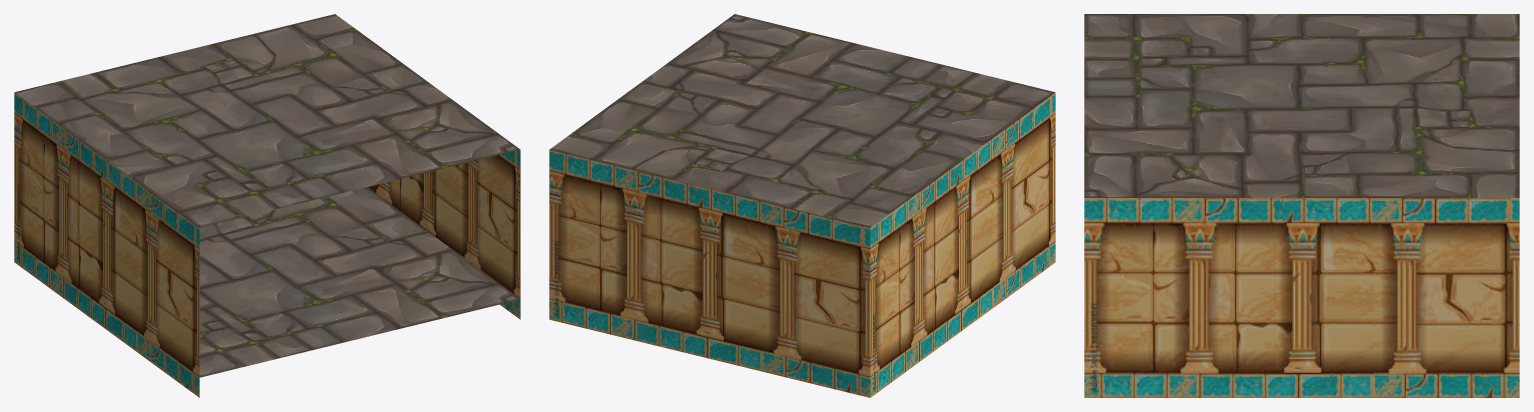
File: Base_chamber.fbx
The picture shows the model from 3 angles, left to right: view 1: azimuth 30°, elevation 25°; view 2: azimuth 150°, elevation 25°; view 3: azimuth 270°, elevation 25°; orthographic projection. The views are drawn at different scales.
Parts seen in each view (by area): view 1: Roof, Floor, Left_Wall, Right_Wall; view 2: Roof, Back_Wall, Left_Wall; view 3: Right_Wall, Roof, Floor.
Part boxes in pixels (x1,y1,x2,y2): Roof: (15, 14, 519, 227); Floor: (199, 187, 519, 377); Left_Wall: (14, 93, 199, 397); Right_Wall: (367, 149, 520, 319); Roof: (550, 14, 1054, 227); Back_Wall: (549, 149, 870, 397); Left_Wall: (870, 92, 1055, 397); Right_Wall: (1084, 198, 1519, 397); Roof: (1084, 14, 1519, 197); Floor: (1084, 374, 1519, 374).
Bounding box in the file's own units: 1000 × 507 × 1000.
2 materials, 2 textured.
